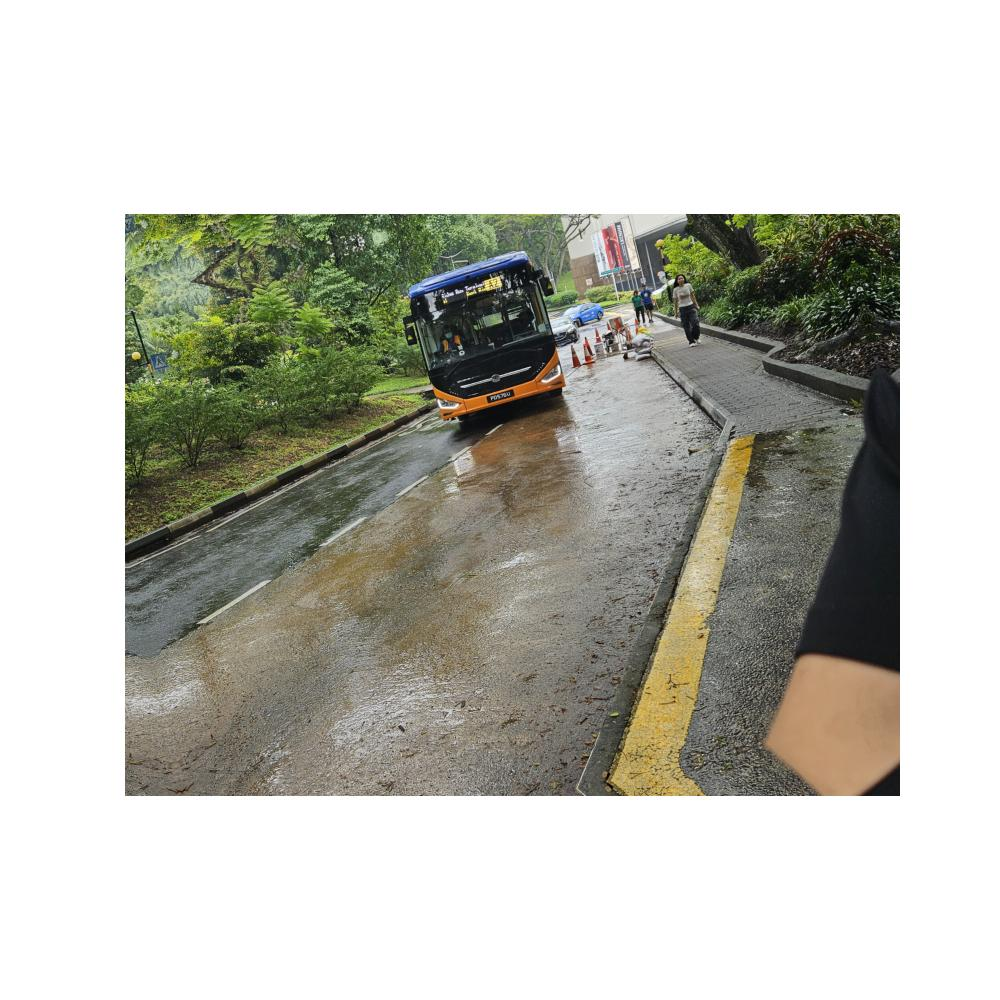bus: (400, 248, 573, 426)
